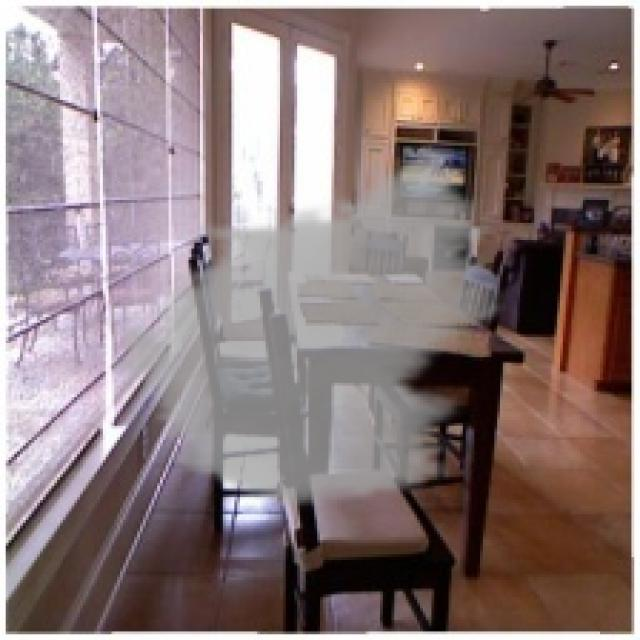smoke: (106, 143, 517, 511)
